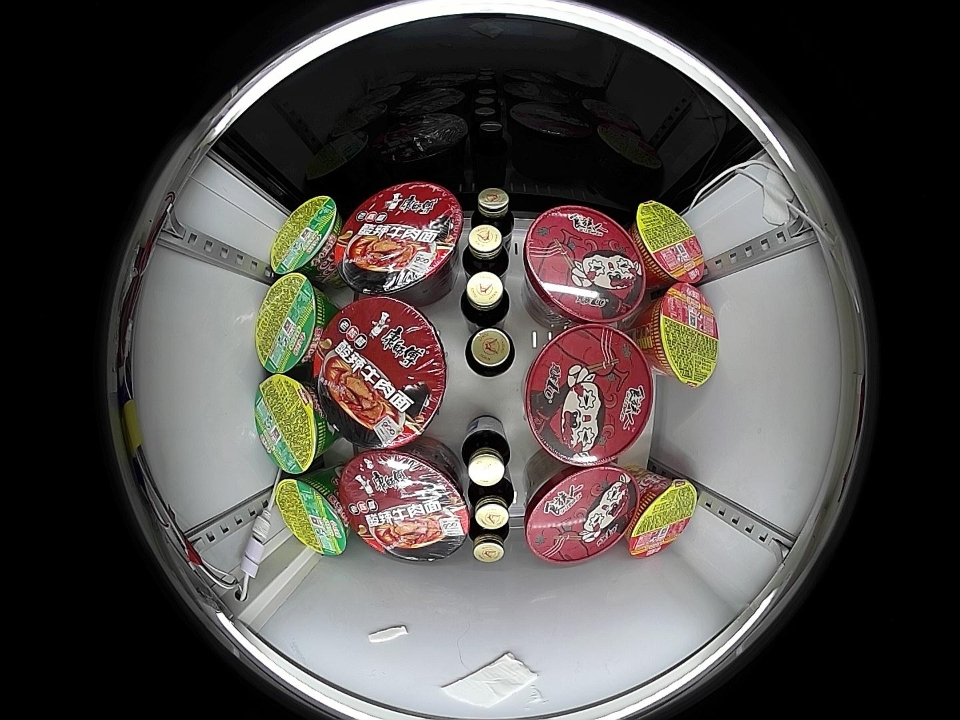heweidao2: (254, 373, 334, 475), (255, 273, 330, 375), (274, 473, 351, 557), (270, 195, 343, 277)
heweidao3: (645, 283, 720, 389), (633, 200, 705, 286), (627, 473, 698, 559)
libaojian: (460, 272, 511, 328), (462, 432, 512, 487), (464, 326, 516, 378), (463, 223, 510, 274), (468, 478, 514, 530), (470, 188, 514, 231), (468, 520, 509, 563)
suanlafen: (523, 324, 654, 466), (522, 205, 645, 324), (524, 464, 637, 563)
suanlaniurou: (314, 296, 448, 447), (339, 448, 470, 563), (337, 181, 462, 296)
